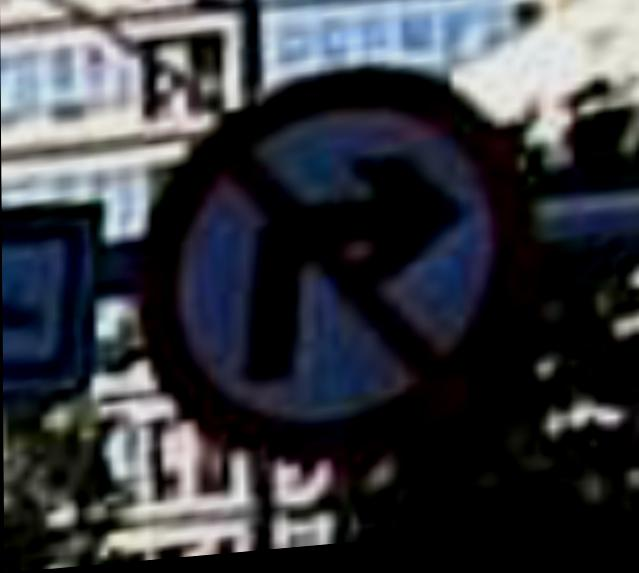not_turn_right: (152, 49, 527, 463)
